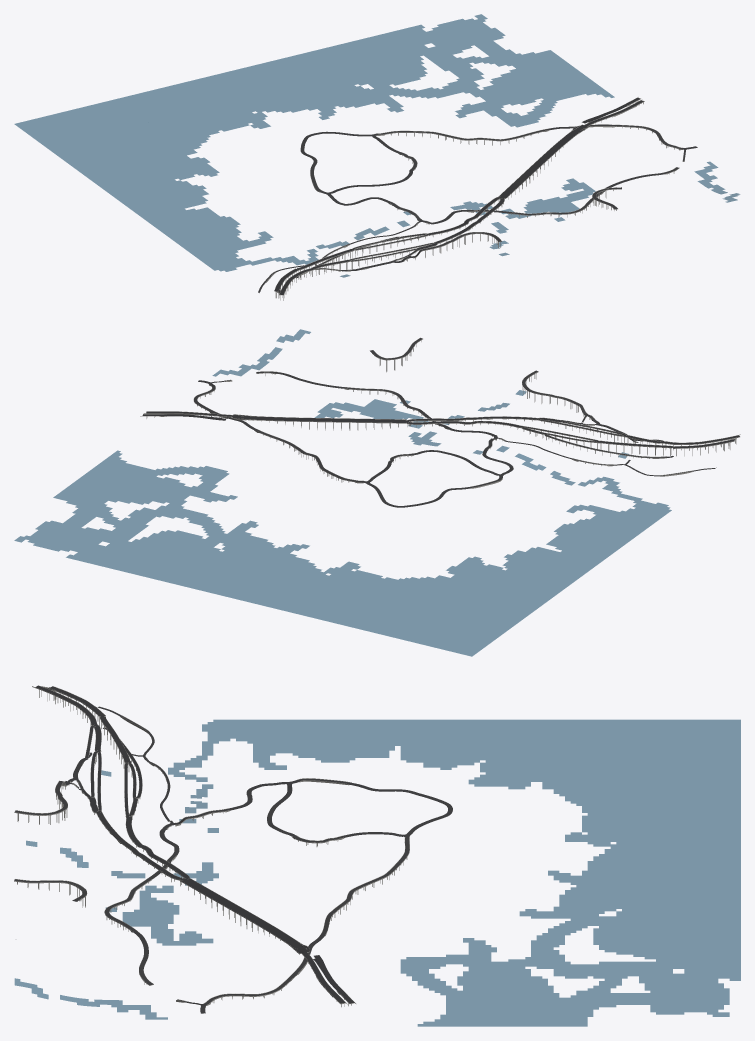
Rendered from chunk_6_1.glb.
3 views of the same model, one above another, from view 1: azimuth 30°, elevation 25°; view 2: azimuth 150°, elevation 25°; view 3: azimuth 270°, elevation 25° (orthographic). The views are drawn at different scales.
Parts seen in each view (by area): view 1: Water_6_1, Roads_6_1, RoadSides_6_1; view 2: Water_6_1, Roads_6_1, RoadSides_6_1; view 3: Water_6_1, Roads_6_1, RoadSides_6_1.
Part boxes in pixels (box(x1,y1,x2,y2)): Water_6_1: box(14, 14, 739, 277); Roads_6_1: box(258, 97, 697, 294); RoadSides_6_1: box(263, 97, 684, 300); Water_6_1: box(14, 329, 671, 656); Roads_6_1: box(142, 338, 739, 507); RoadSides_6_1: box(140, 337, 740, 488); Water_6_1: box(14, 719, 740, 1026); Roads_6_1: box(14, 685, 452, 1013); RoadSides_6_1: box(14, 686, 409, 1007).
Size of the model in its own units: 2059 by 154 by 2050.
